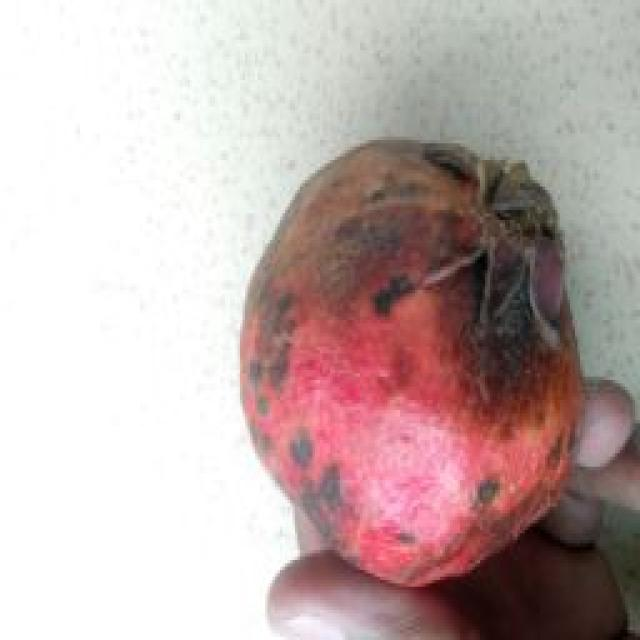overripe: (235, 130, 590, 592)
